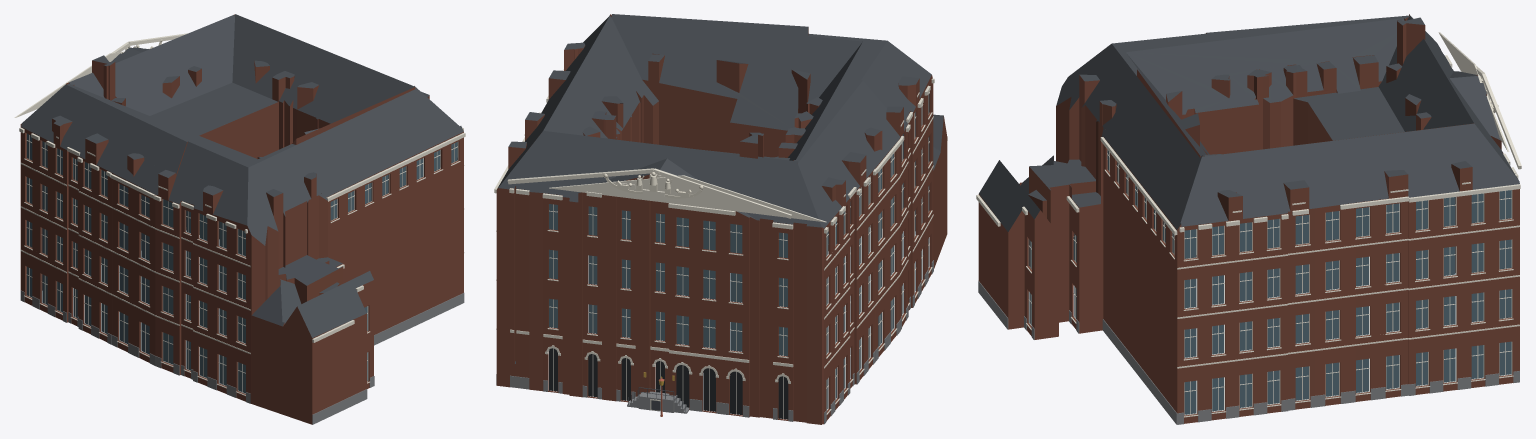
Rendered from maagdenhuis.glb.
3 renders of one model, left to right at view 1: azimuth 30°, elevation 25°; view 2: azimuth 150°, elevation 25°; view 3: azimuth 270°, elevation 25°, orthographic. The views are drawn at different scales.
Parts seen in each view (by area): view 1: maagdenhuis; view 2: maagdenhuis; view 3: maagdenhuis.
Part boxes in pixels (x1,y1,x2,y2): maagdenhuis: (14, 14, 465, 424); maagdenhuis: (494, 14, 947, 424); maagdenhuis: (976, 14, 1521, 424).
Bounding box in the file's own units: 45.64 × 29.78 × 56.47.
